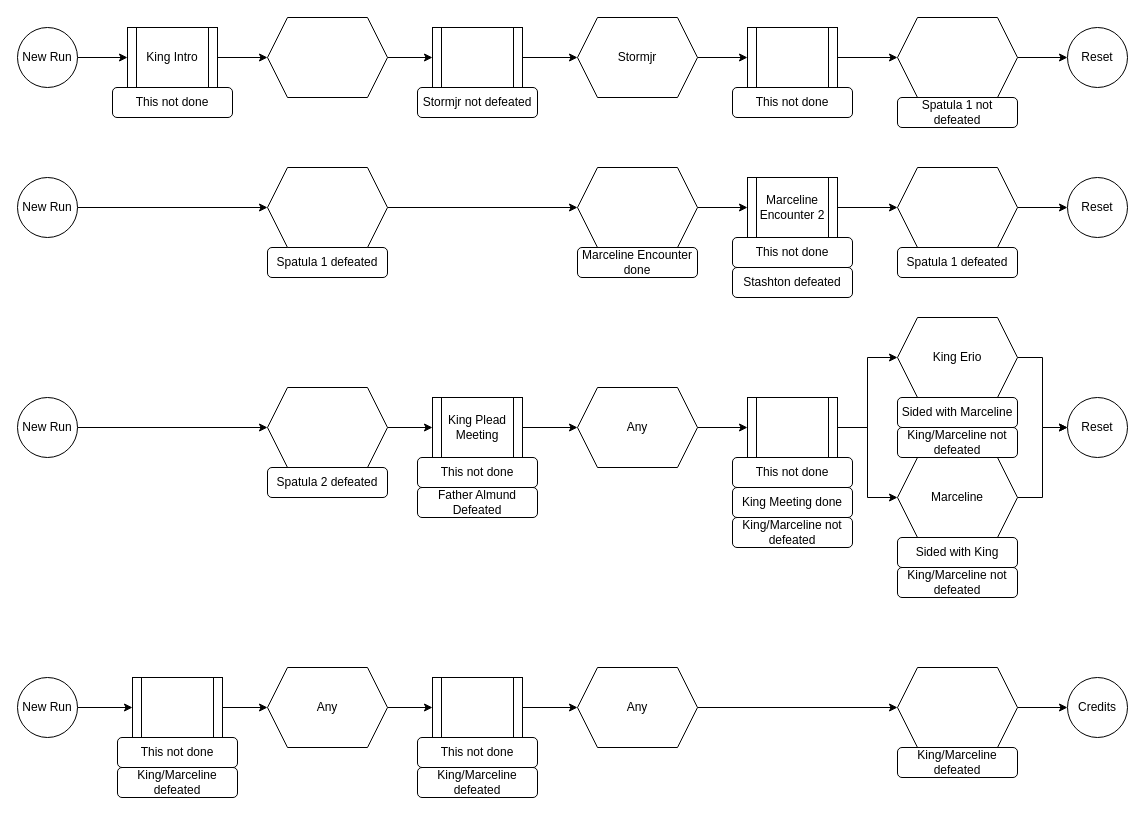
This 1145x815 diagram has some shape labels left out. Each missing label, with the centre of its shape:
"Blessed Children" belongs at (327,207).
"Captain Stashton" belongs at (637,207).
"Count Spatula" belongs at (957,57).
"Count Spatula 2" belongs at (957,207).
"Father Almund" belongs at (327,427).
"King Defeated Meeting" belongs at (177,707).
"King vs Marceline" belongs at (792,427).
"Marceline Defeated Meeting" belongs at (477,707).
"Marceline Encounter" belongs at (792,57).
"Pumpzilla" belongs at (327,57).
"Stashton and Marceline" belongs at (477,57).
"Tyl" belongs at (957,707).
